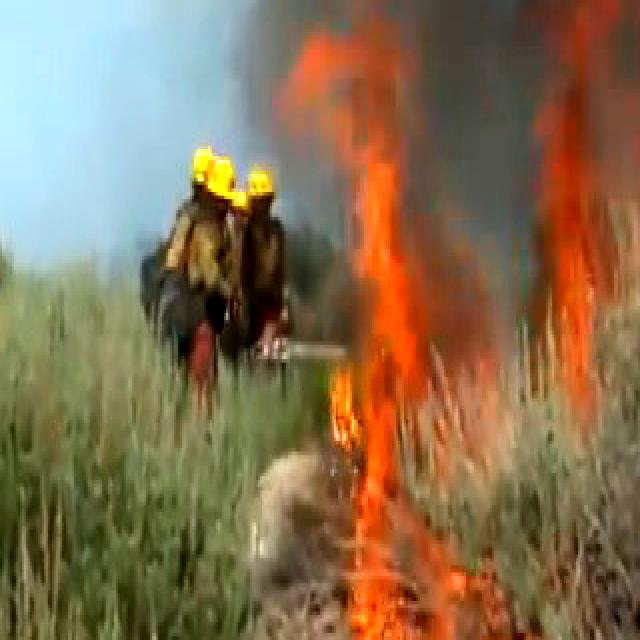fire: (304, 0, 494, 640), (520, 0, 640, 384)
